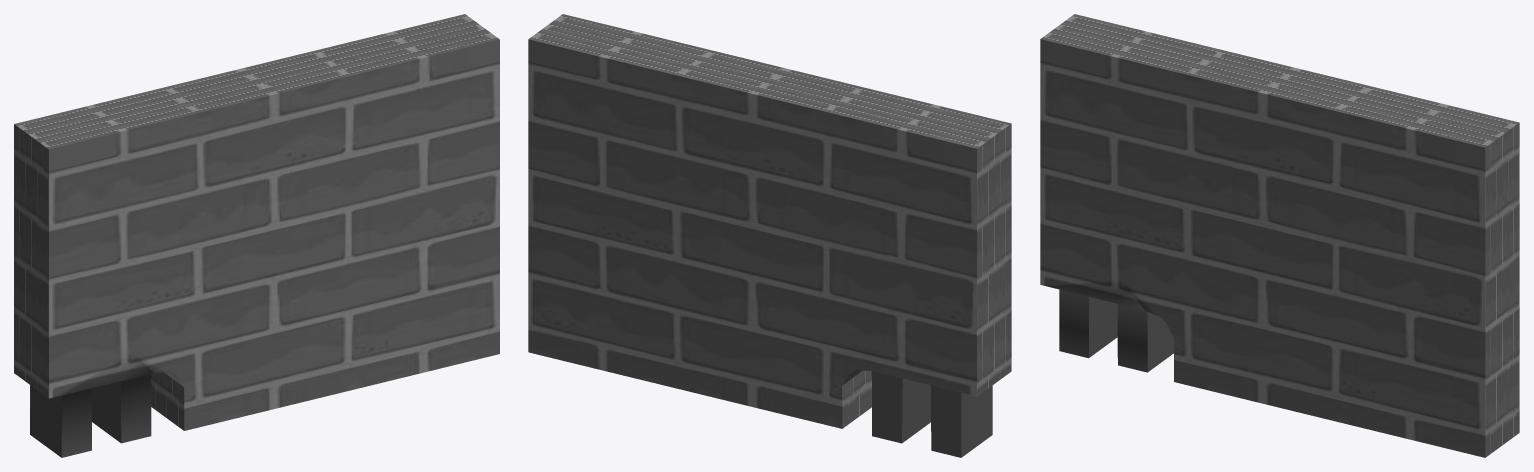
File: ParedRioDerecha.fbx
The picture shows the model from 3 angles, left to right: view 1: azimuth 30°, elevation 25°; view 2: azimuth 150°, elevation 25°; view 3: azimuth 330°, elevation 25°; orthographic projection.
Parts seen in each view (by area): view 1: muroConReja; view 2: muroConReja; view 3: muroConReja.
Part boxes in pixels (x1,y1,x2,y2): muroConReja: (14, 14, 499, 457); muroConReja: (528, 14, 1011, 457); muroConReja: (1040, 14, 1519, 457).
Size of the model in its own units: 15 by 10 by 2.
